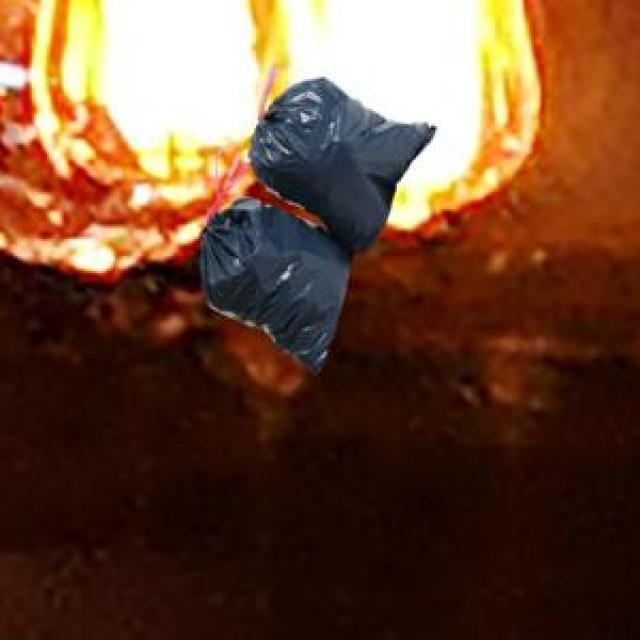Trashbag: (262, 75, 432, 230), (196, 214, 361, 366)
